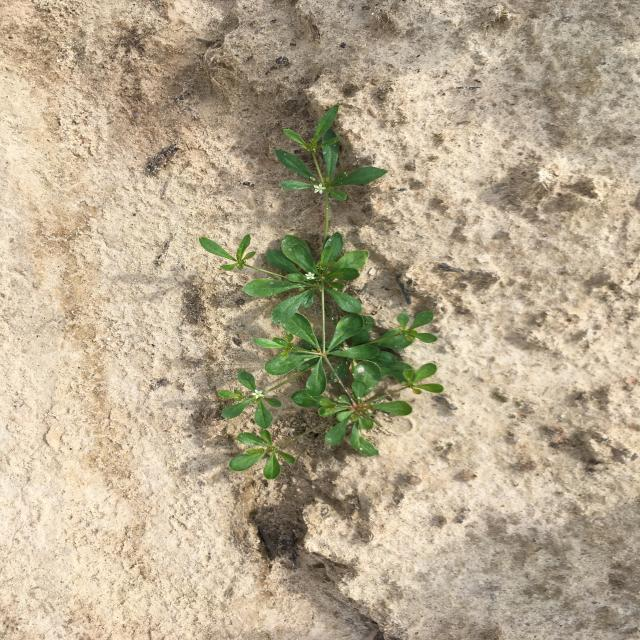Carpetweed: (198, 104, 444, 480)
